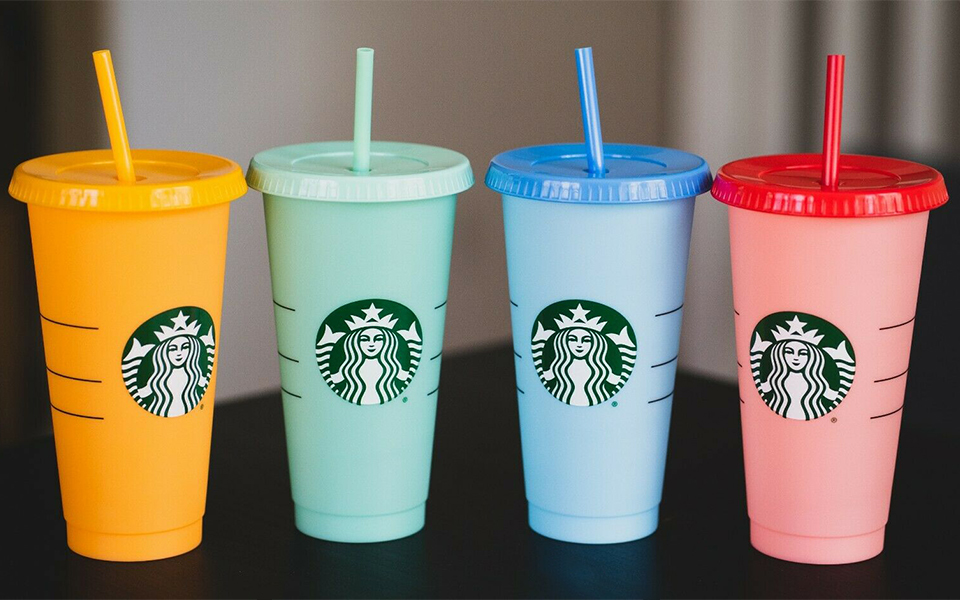Tumbler: (717, 32, 952, 572), (3, 40, 239, 564), (483, 35, 712, 553), (246, 35, 475, 545)
